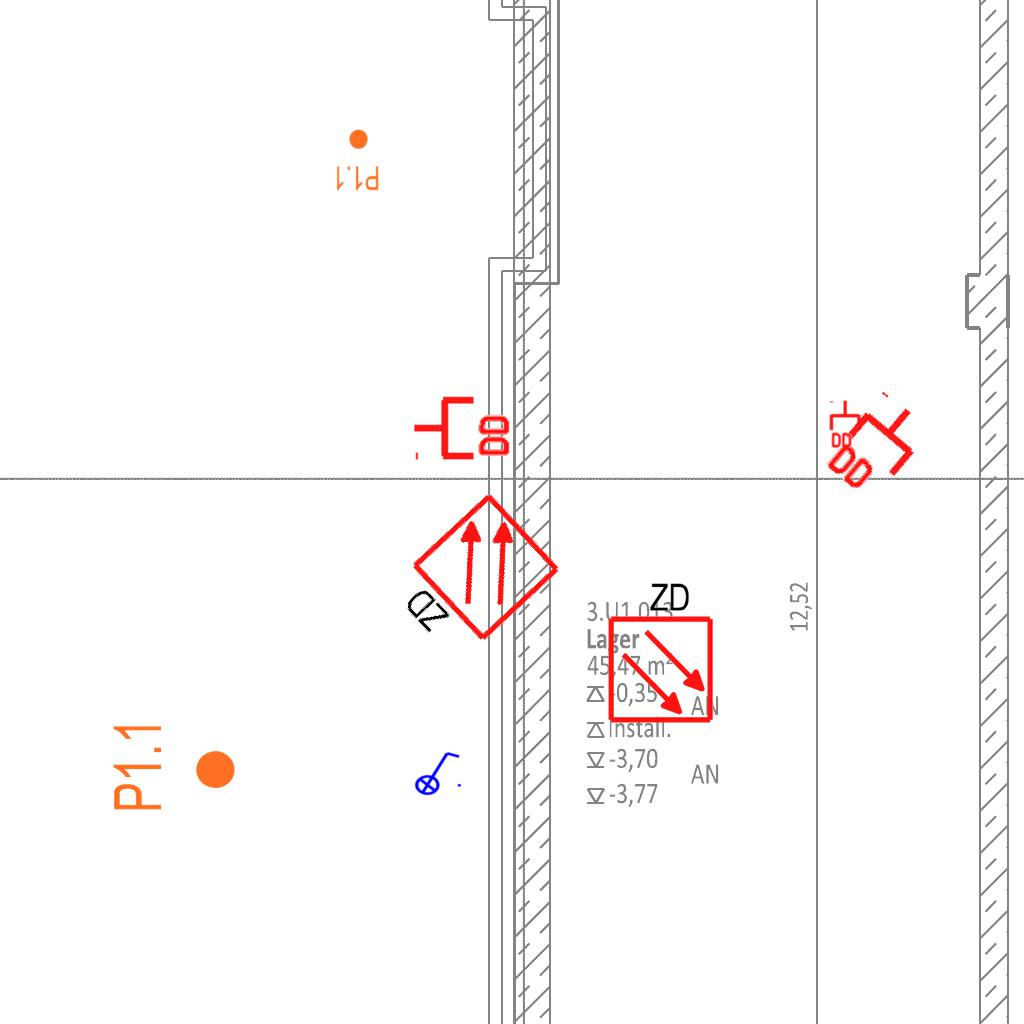Ausschalter_beleuchtet: (408, 748, 464, 796)
Datenanschluss_zweifach: (818, 386, 939, 511), (411, 392, 514, 461), (829, 399, 863, 450)
Downlight_LED_Einbauleuchten_Flur: (110, 720, 238, 813), (334, 128, 380, 192)
ZD_Melder_in_Zwischendecke_mit_Revisionsoeffnung_mind_40_x_40_cm: (379, 489, 567, 674), (602, 576, 716, 725)
